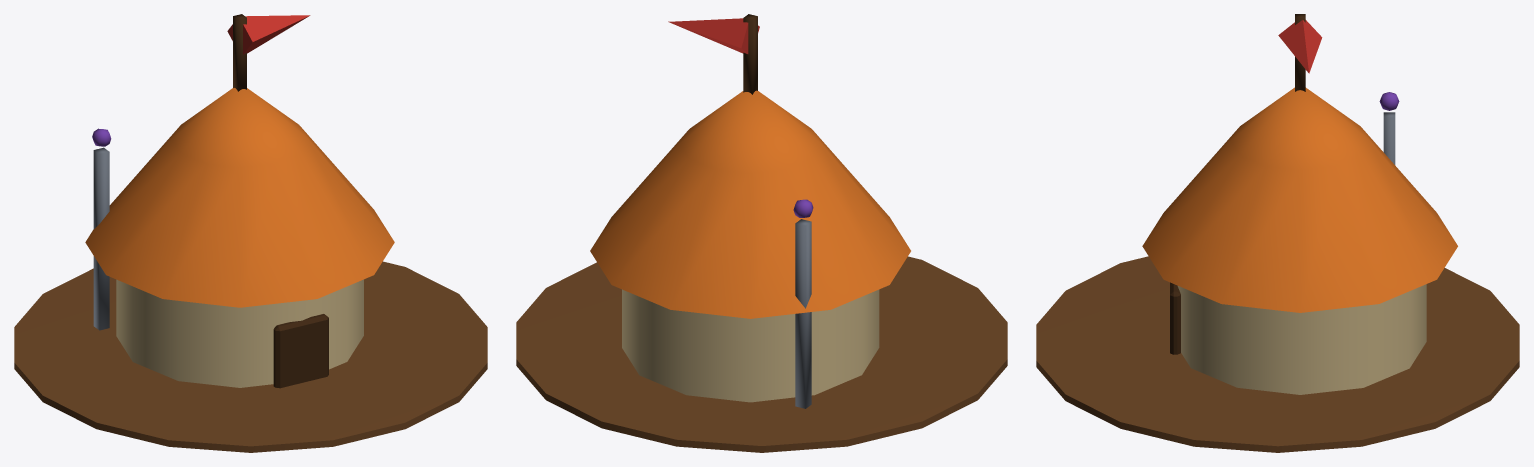
3 views of the same model, side by side, from view 1: azimuth 30°, elevation 25°; view 2: azimuth 150°, elevation 25°; view 3: azimuth 270°, elevation 25° (orthographic). The views are drawn at different scales.
Visible parts, largest first — view 1: vila_0_base; view 2: vila_0_base; view 3: vila_0_base.
Part boxes in pixels (box(x1,y1,x2,y2)): vila_0_base: box(14, 14, 487, 452); vila_0_base: box(516, 14, 1007, 452); vila_0_base: box(1036, 14, 1519, 452).
Size of the model in its own units: 1.32 by 0.993 by 1.3.
